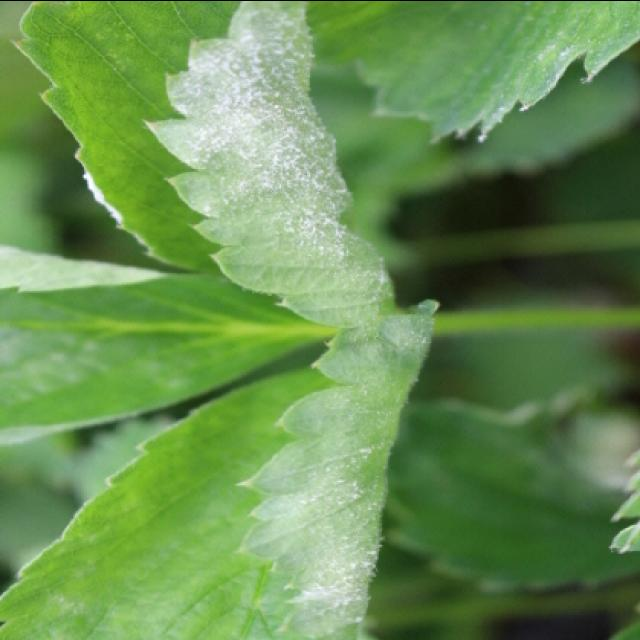Powdery Mildew Leaf: (0, 298, 439, 640), (10, 2, 398, 329), (0, 244, 334, 444)
